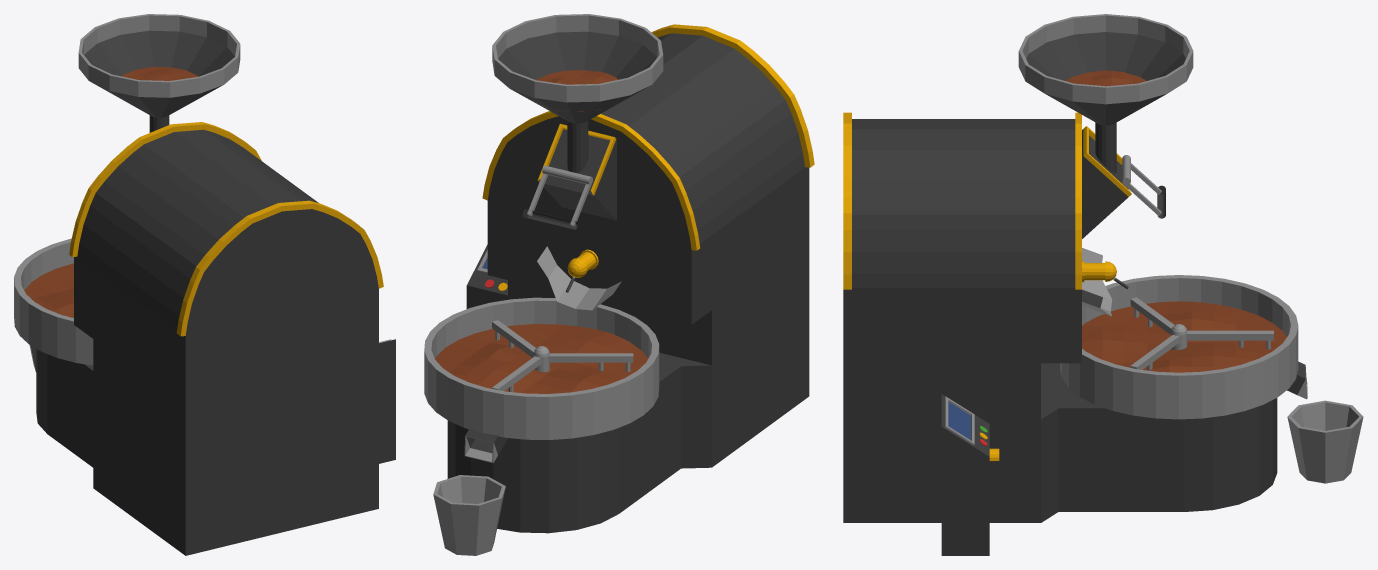
The model's file is roasting_machine.glb.
3 renders of one model, left to right at view 1: azimuth 30°, elevation 25°; view 2: azimuth 150°, elevation 25°; view 3: azimuth 270°, elevation 25°, orthographic. The views are drawn at different scales.
Parts seen in each view (by area): view 1: spinning; view 2: spinning; view 3: spinning.
Part boxes in pixels (x1,y1,x2,y2): spinning: [14, 14, 395, 555]; spinning: [424, 14, 814, 555]; spinning: [843, 14, 1363, 555].
Size of the model in its own units: 2.7 by 3.9 by 4.36.
